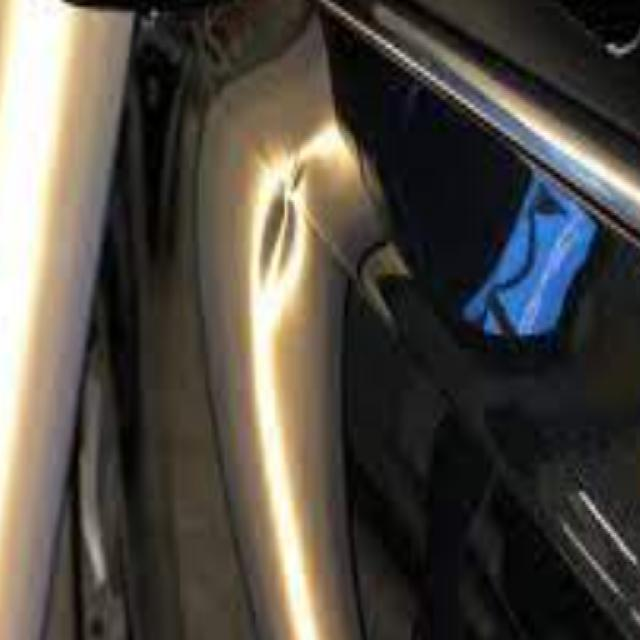dents: (247, 130, 319, 319)
